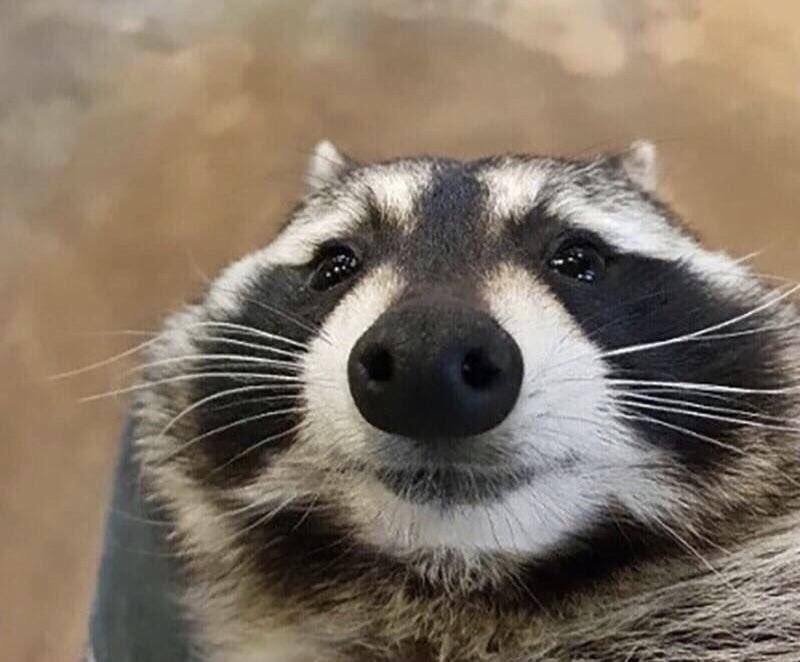raccoon: (62, 122, 800, 662)
